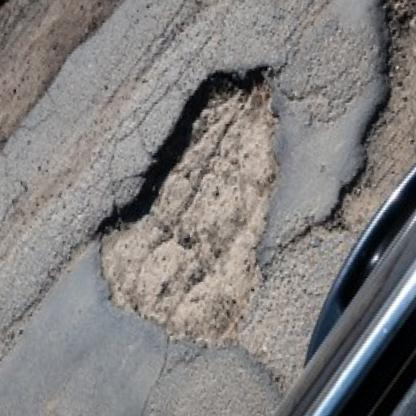pothole: (70, 61, 310, 328), (289, 0, 416, 235)
